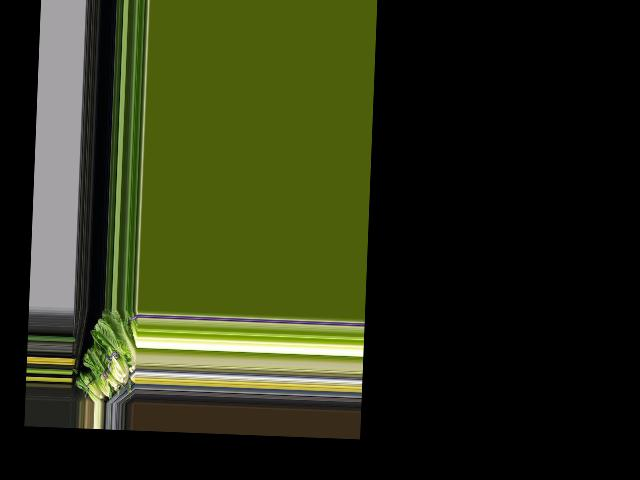lettuce: (95, 309, 135, 364)
